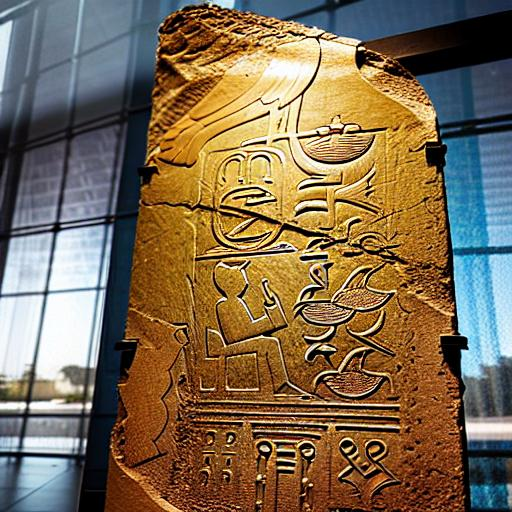Stela of king Snefero: (134, 4, 456, 512)
